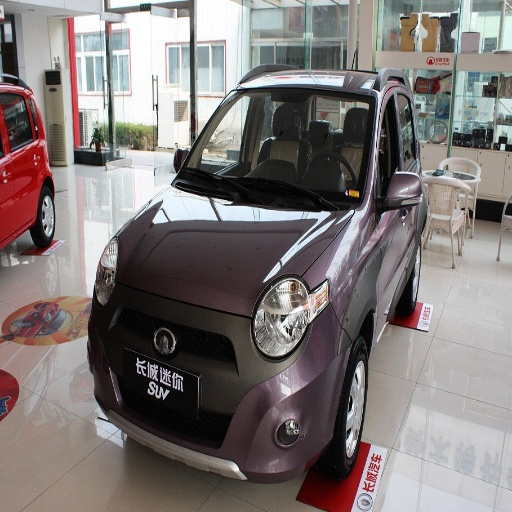front_bumper: (99, 292, 349, 480)
front_glass: (225, 86, 374, 205)
front_left_door: (365, 152, 405, 277)
trunk: (130, 244, 200, 298)
